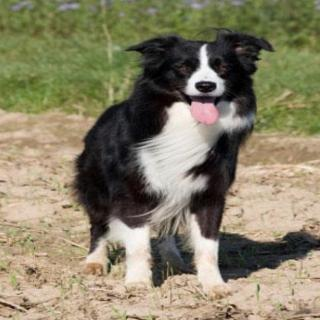dog: (128, 27, 269, 134)
nose: (194, 78, 219, 96)
